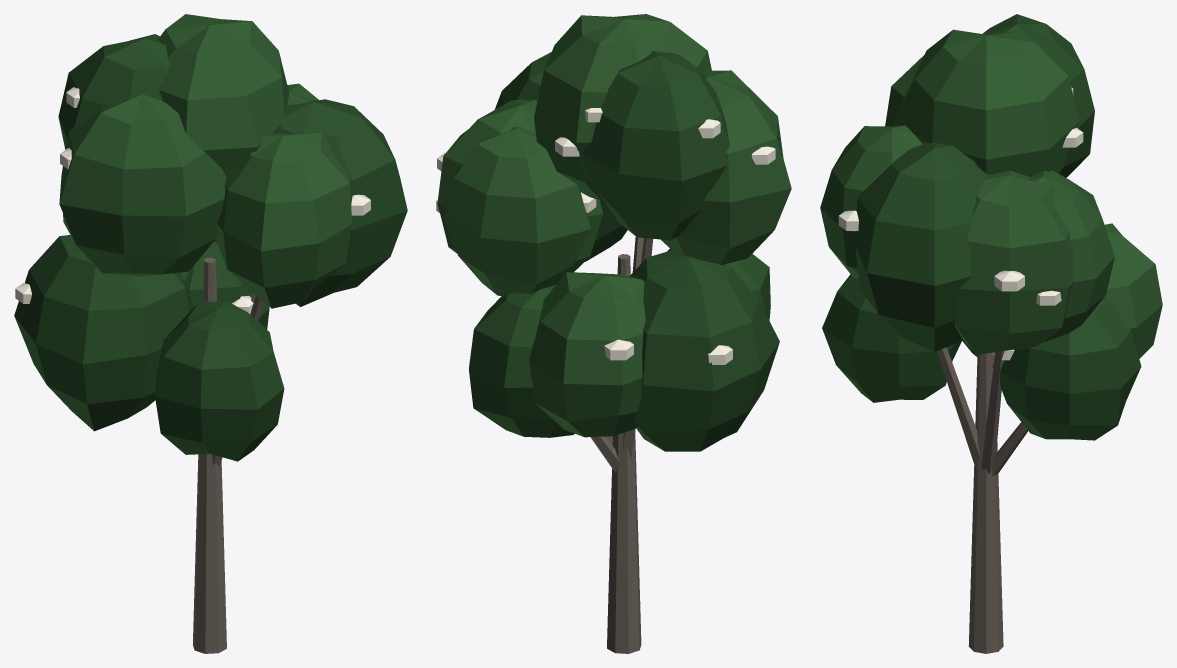
The model's file is tree_magnolia_small.glb.
3 views of the same model, side by side, from view 1: azimuth 30°, elevation 25°; view 2: azimuth 150°, elevation 25°; view 3: azimuth 270°, elevation 25° (orthographic). The views are drawn at different scales.
Parts seen in each view (by area): view 1: tree_magnolia_small; view 2: tree_magnolia_small; view 3: tree_magnolia_small.
Part boxes in pixels (x1,y1,x2,y2): tree_magnolia_small: (14, 14, 407, 653); tree_magnolia_small: (436, 14, 791, 653); tree_magnolia_small: (820, 14, 1162, 653).
Size of the model in its own units: 2.36 by 4.27 by 2.17.
